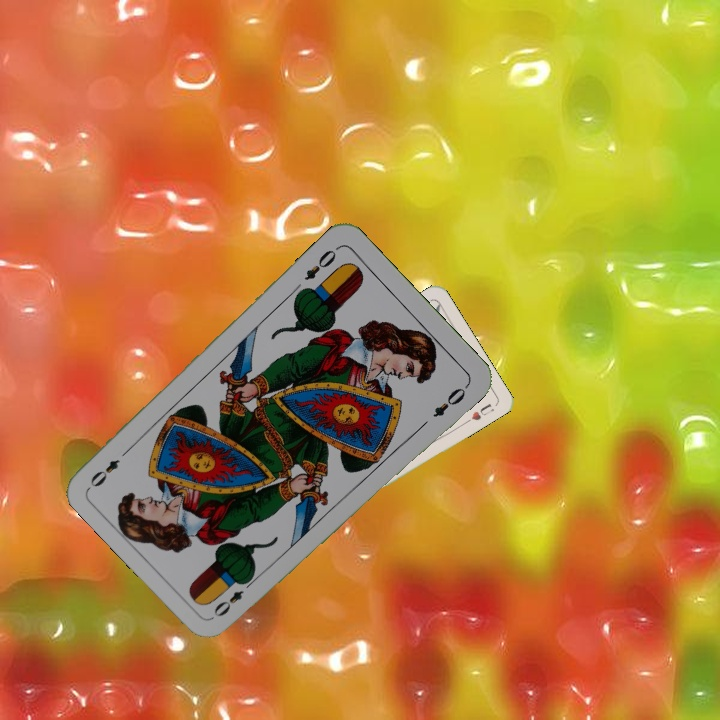EO: (209, 574, 257, 620), (300, 242, 342, 283)
